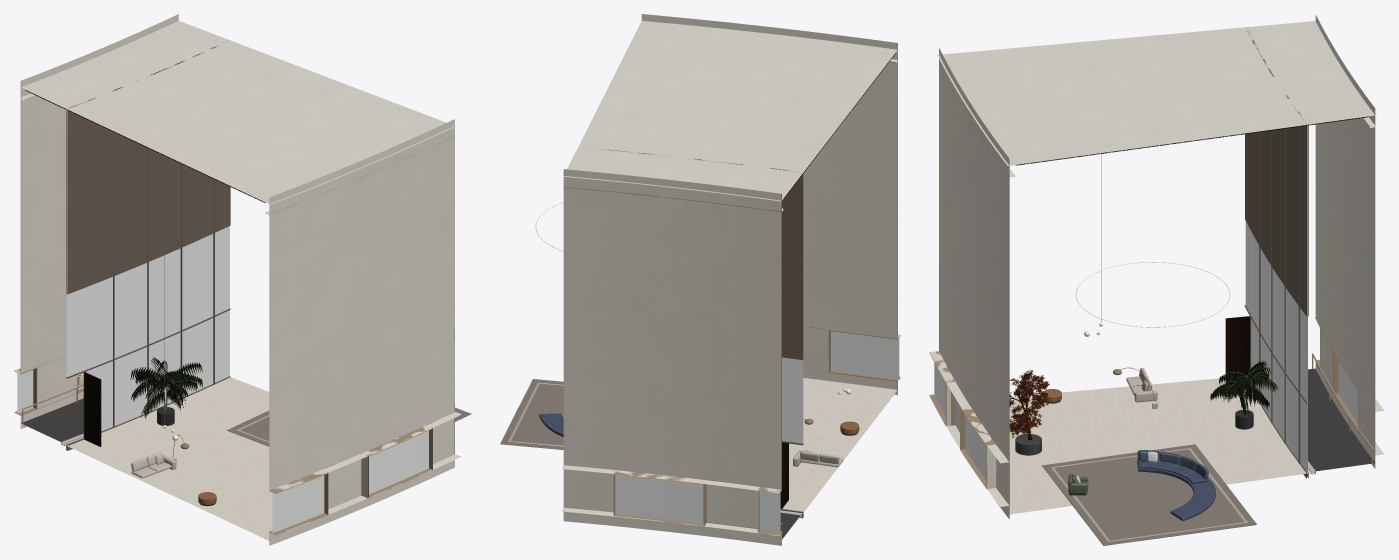
3 renders of one model, left to right at view 1: azimuth 30°, elevation 25°; view 2: azimuth 150°, elevation 25°; view 3: azimuth 270°, elevation 25°, orthographic. The views are drawn at different scales.
Visible parts, largest first — view 1: c1620, c1620 leaves; view 2: c1620, c1620 leaves; view 3: c1620, c1620 leaves.
Part boxes in pixels (x1,y1,x2,y2): c1620: (14, 14, 471, 545); c1620 leaves: (25, 90, 265, 446); c1620: (500, 14, 900, 545); c1620 leaves: (780, 53, 895, 508); c1620: (929, 15, 1384, 545); c1620 leaves: (1009, 116, 1369, 440).
Bounding box in the file's own units: 21.79 × 20.7 × 23.66.
11 materials, 1 textured.
